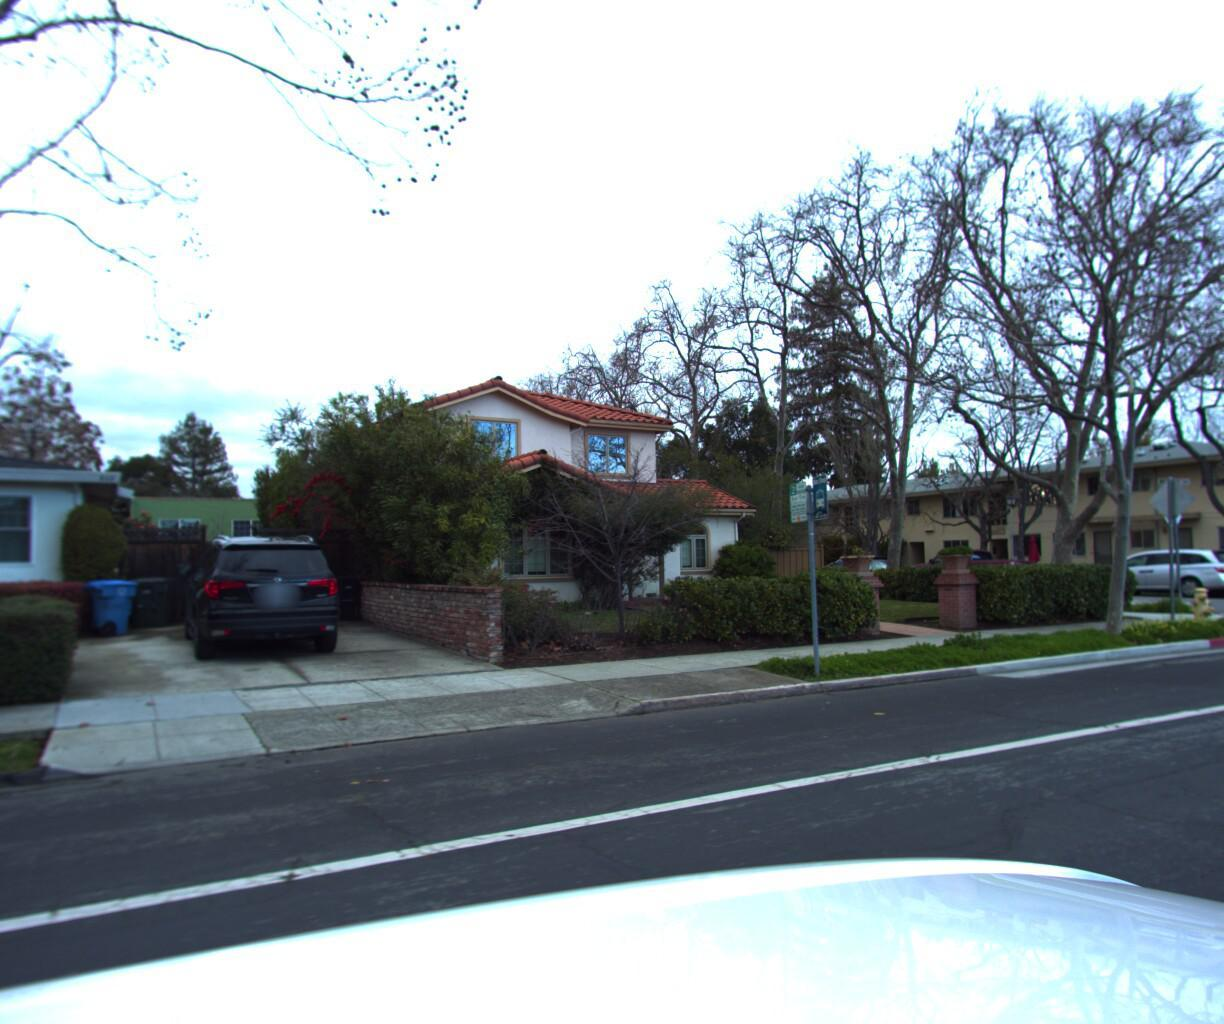car: (183, 529, 357, 664), (1079, 541, 1224, 601), (901, 546, 1044, 595)
